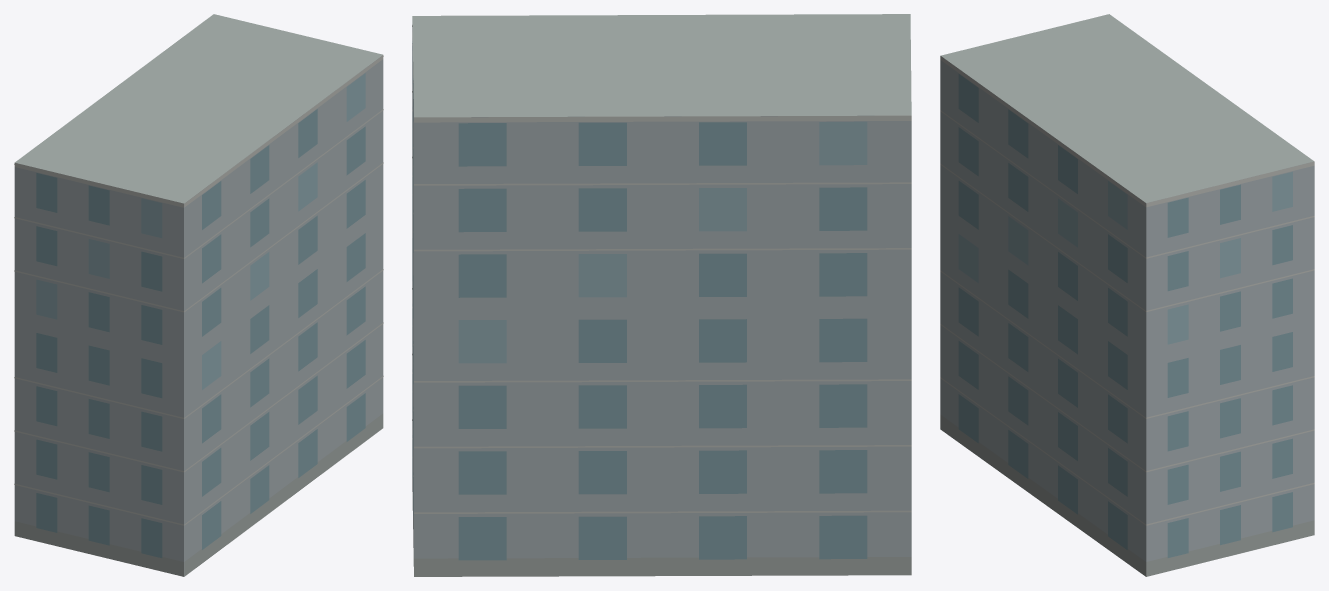
The model's file is survey-upis-32981700.glb.
The picture shows the model from 3 angles, left to right: view 1: azimuth 30°, elevation 25°; view 2: azimuth 150°, elevation 25°; view 3: azimuth 270°, elevation 25°; orthographic projection. The views are drawn at different scales.
Parts seen in each view (by area): view 1: survey-upis-32981700.tmp; view 2: survey-upis-32981700.tmp; view 3: survey-upis-32981700.tmp.
Boxes of the visible parts, <box> form: survey-upis-32981700.tmp: <box>14,14,383,576</box>; survey-upis-32981700.tmp: <box>412,14,911,576</box>; survey-upis-32981700.tmp: <box>940,14,1314,576</box>.
Size of the model in its own units: 23.2 by 21.35 by 19.39.
